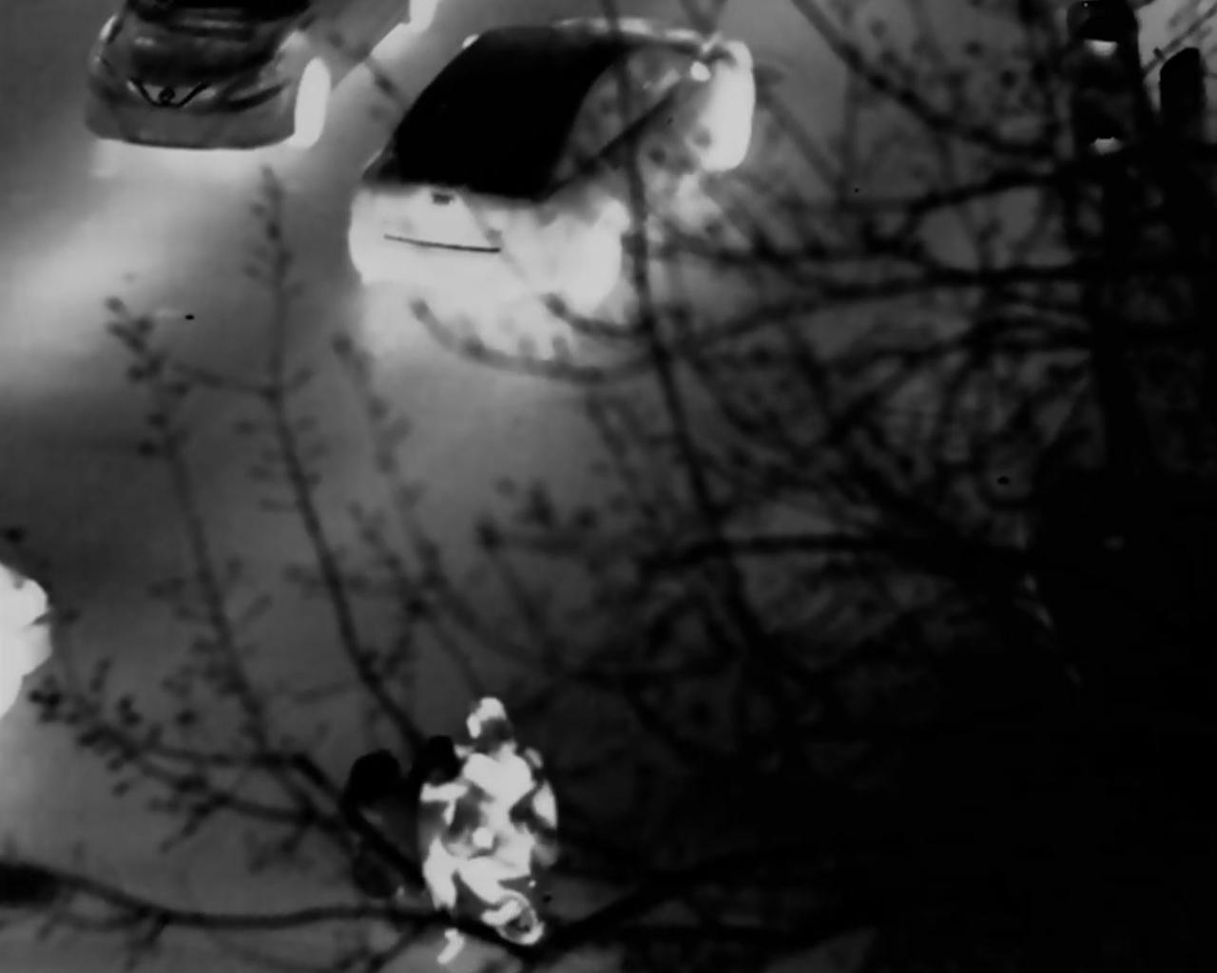person: (416, 696, 516, 963), (452, 715, 558, 925)
